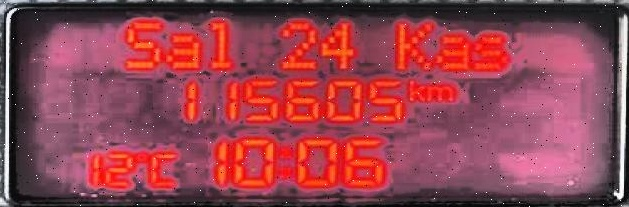0: (293, 135, 338, 186), (231, 137, 276, 188), (323, 76, 363, 121)
1: (211, 138, 227, 185), (223, 79, 239, 120), (181, 79, 197, 120), (89, 151, 100, 186)
2: (276, 19, 316, 69), (100, 150, 134, 186)
4: (318, 19, 356, 68)
5: (364, 78, 403, 122), (243, 77, 280, 120)
6: (340, 137, 385, 187), (283, 78, 320, 122)
X: (120, 17, 164, 70), (393, 20, 433, 70), (164, 31, 201, 69), (470, 33, 508, 70), (433, 33, 470, 70), (204, 19, 231, 69), (146, 151, 177, 186), (423, 83, 453, 102), (276, 144, 291, 178), (404, 79, 423, 101)
